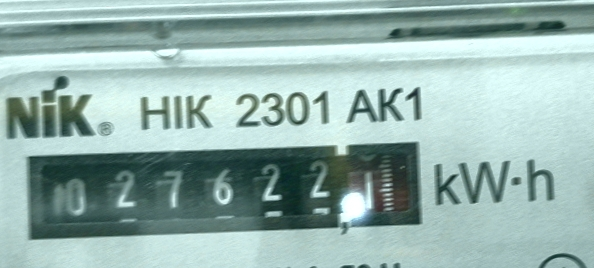0: (63, 174, 88, 217)
1: (360, 168, 377, 211)
2: (258, 161, 283, 203), (113, 167, 137, 210), (307, 157, 331, 199)
6: (211, 165, 234, 206)
7: (161, 168, 185, 211)
screen: (15, 131, 434, 246)
